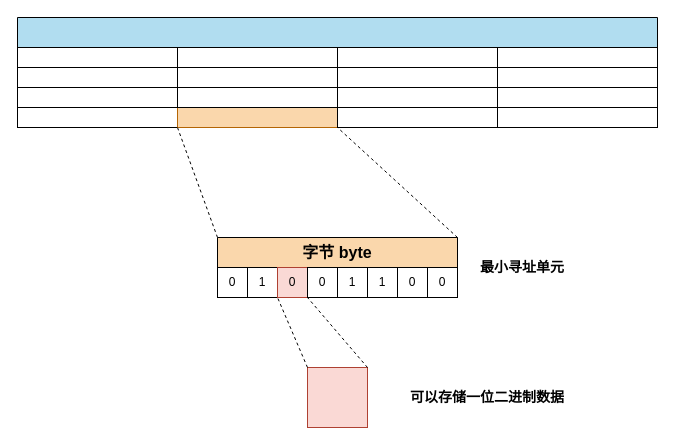
This 675x445 diagram has some shape labels left out. Each missing label, with the box of its shape:
存储器 memory: (16, 16, 658, 128)
比特 bit: (306, 366, 368, 428)
